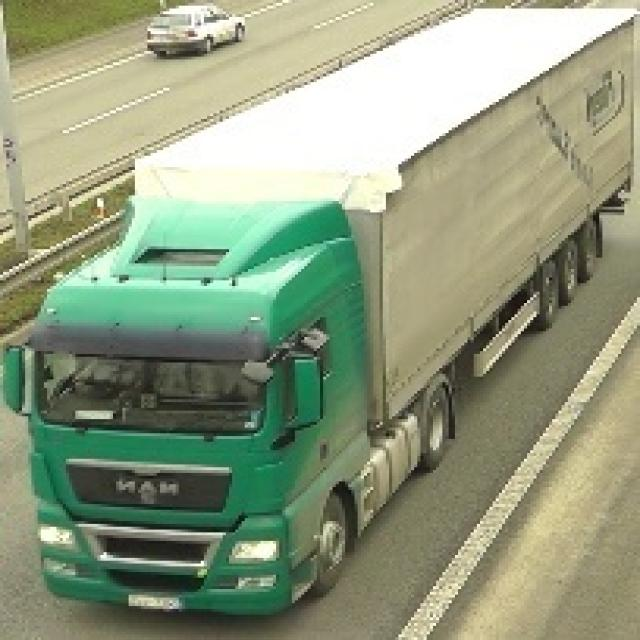SUV: (145, 4, 245, 59)
TRUCK: (34, 5, 640, 623)
